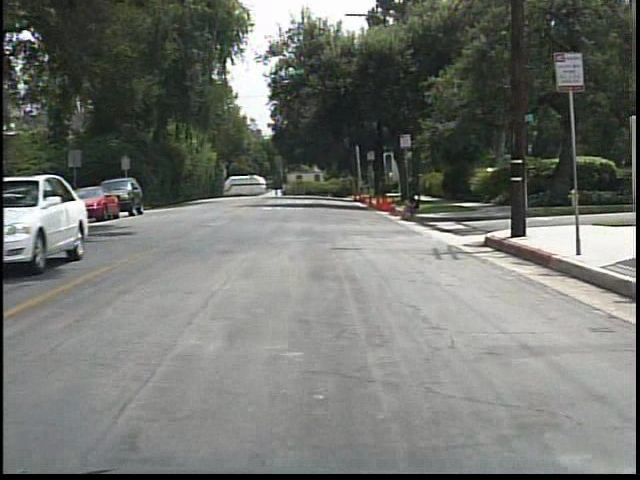person: (399, 191, 428, 222)
